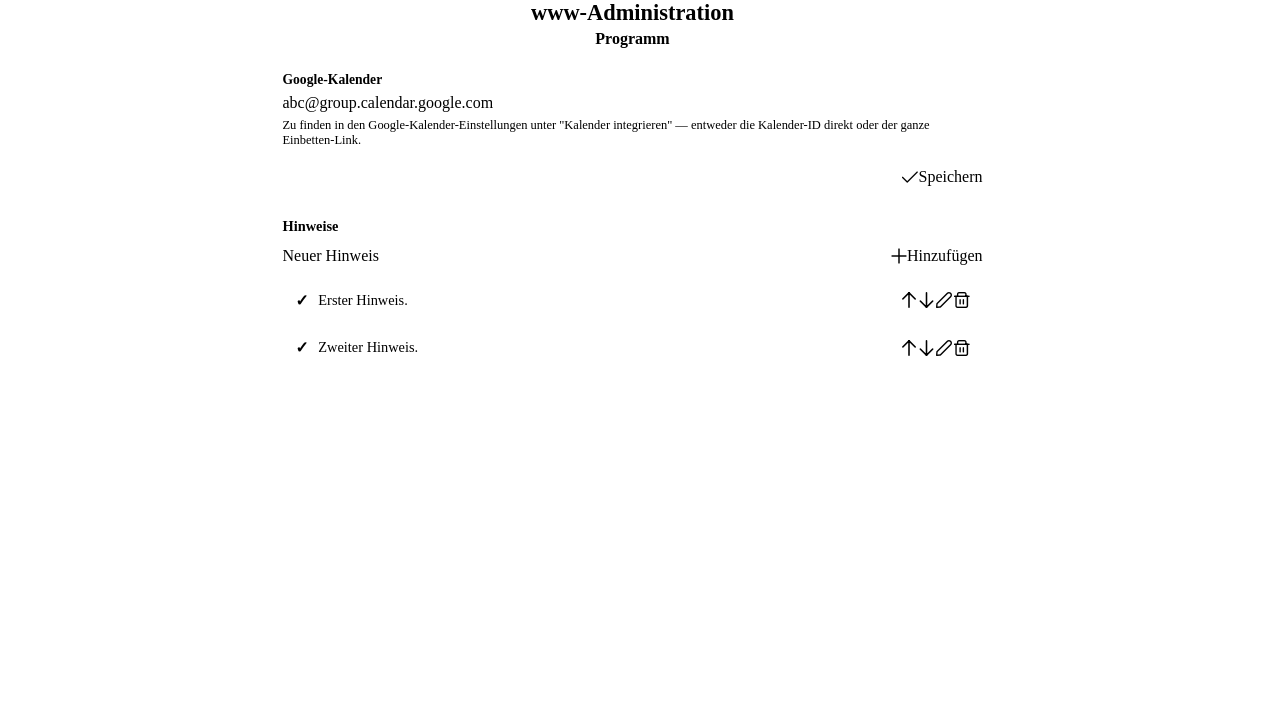
Scenario: ProgrammAdminView › field limits, server values and row names › offers to save a non-blank edited hint
Click the button named "Bearbeiten: Erster Hinweis.".
click(944, 300)  # box [936,291,952,309]
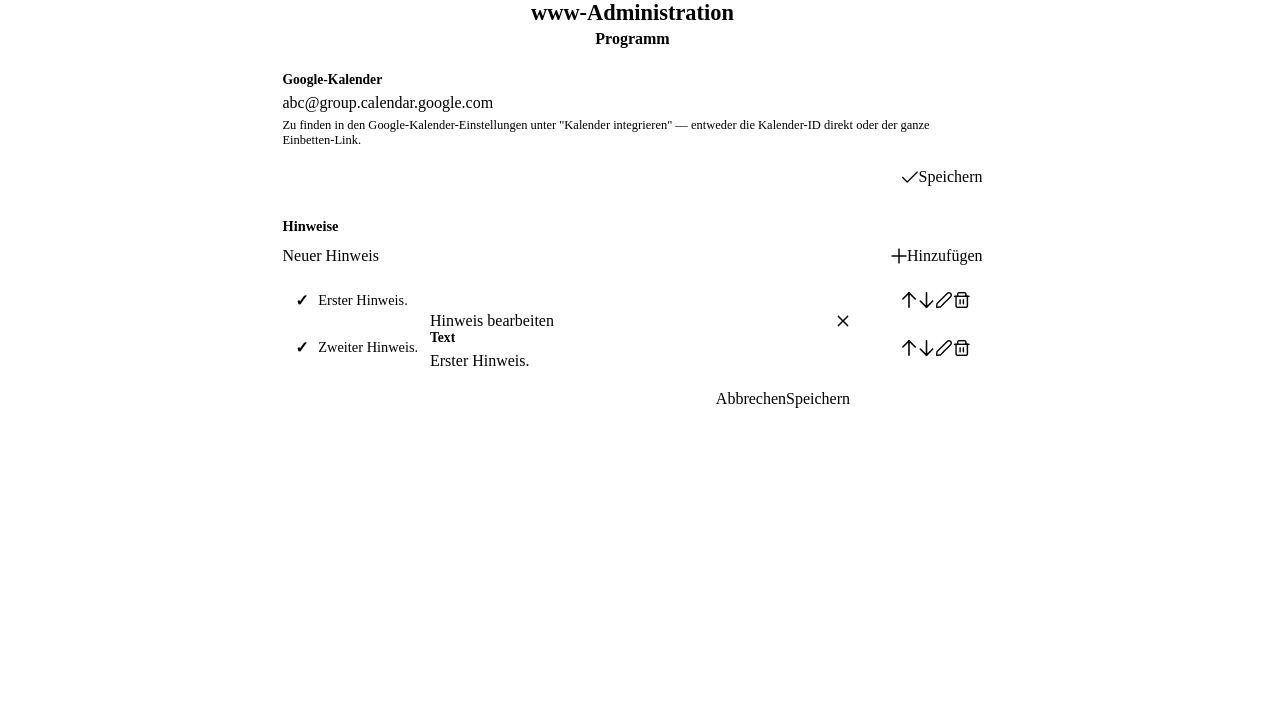
Check: the button "Speichern" is enabled, box [786,390,850,408]
